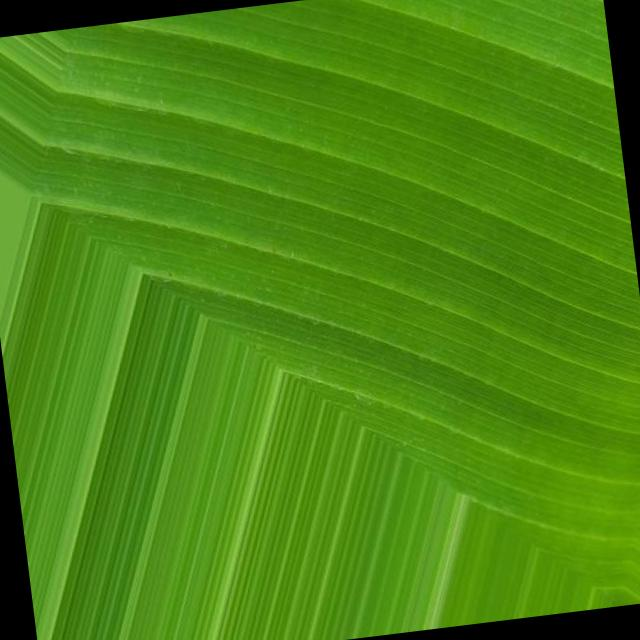Banana_Healthy: (201, 0, 612, 373)
